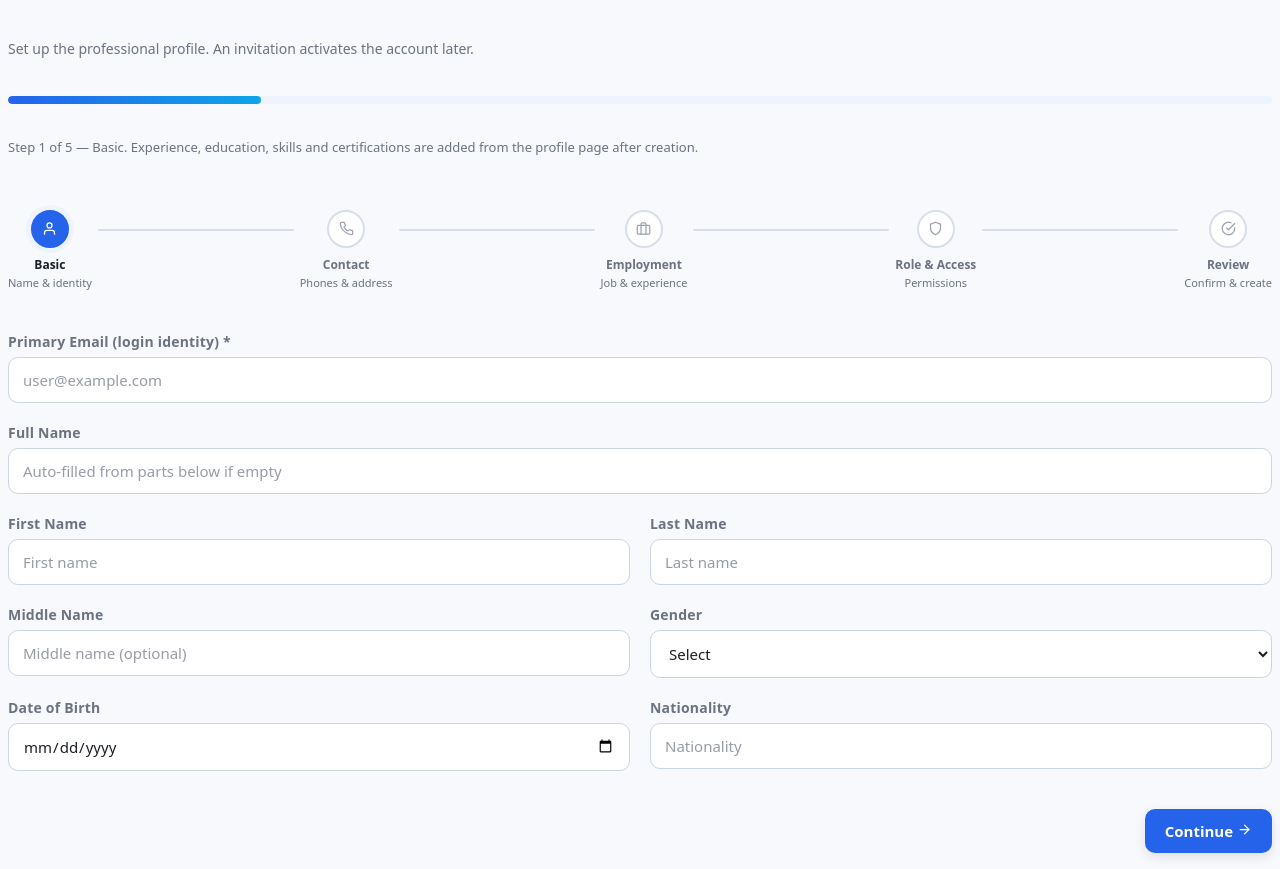
it: UserForm (create mode) › rejects negative experience
The image size is (1280, 869).
# jump to employment step by filling basics first
Type "a@b.co" into the field with placeholder "user@example.com".
click(640, 380); type("a@b.co")  # box [8,356,1272,402]
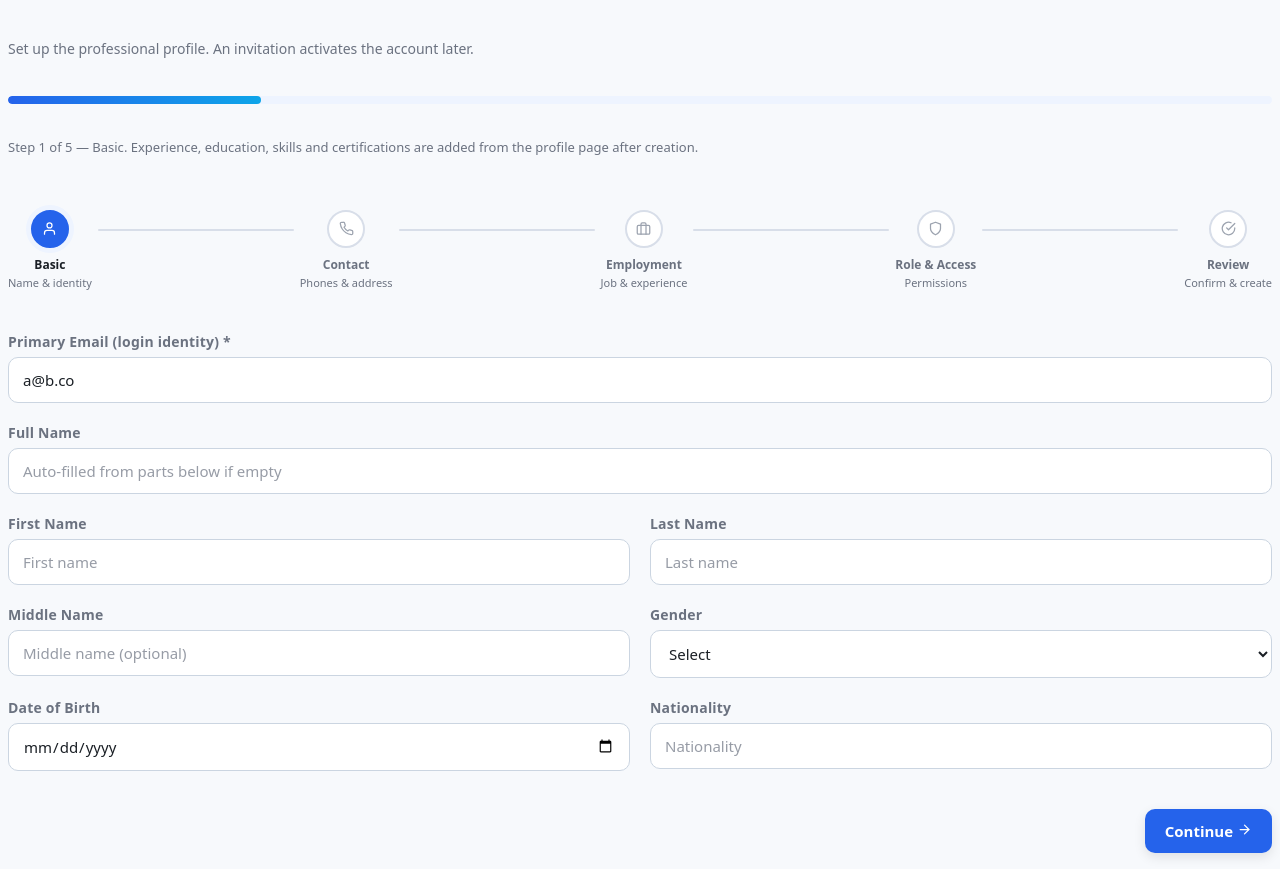
Type "A" into the field with placeholder "First Name".
click(319, 562); type("A")  # box [8,538,630,584]
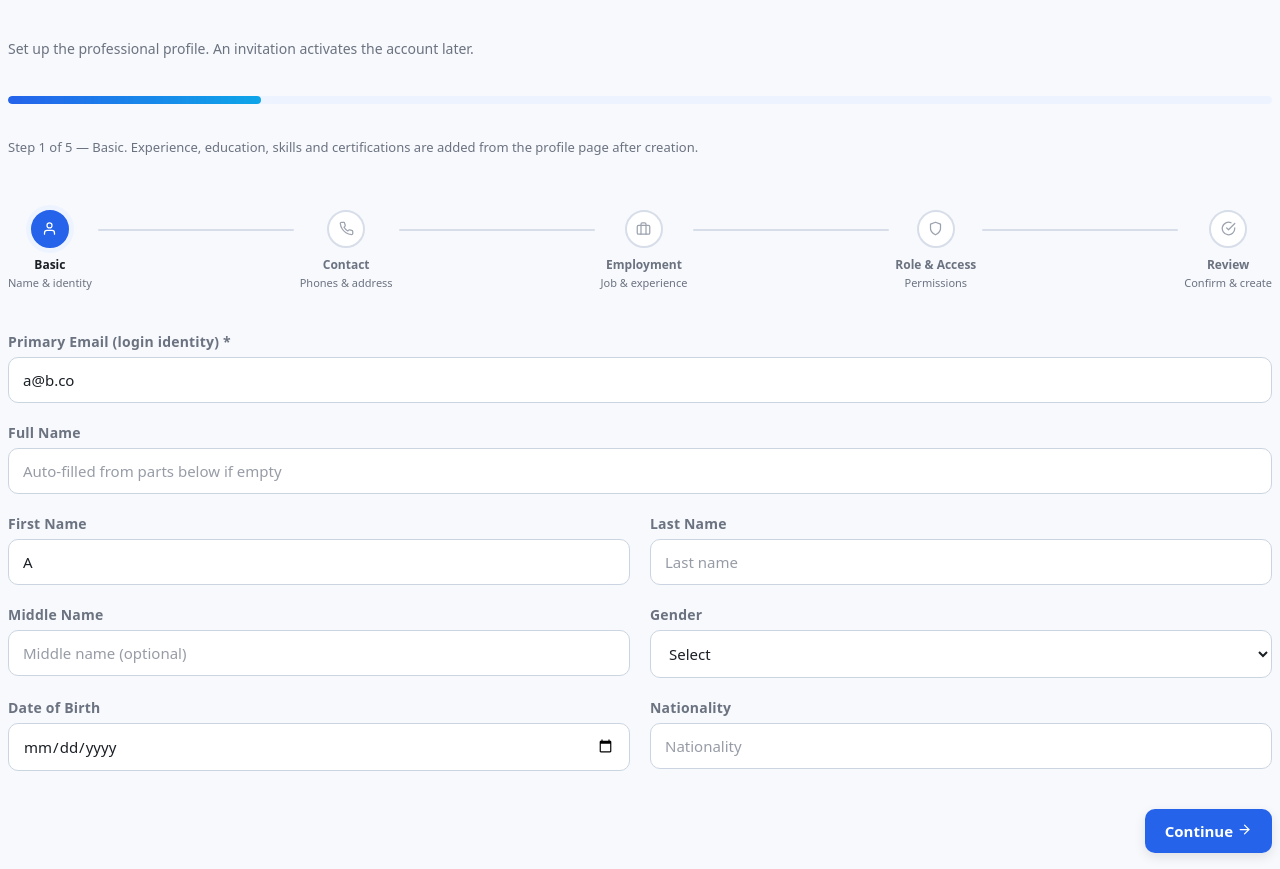
Click the button "Continue".
click(1208, 830)  # box [1145,808,1272,852]
(page scrolled)
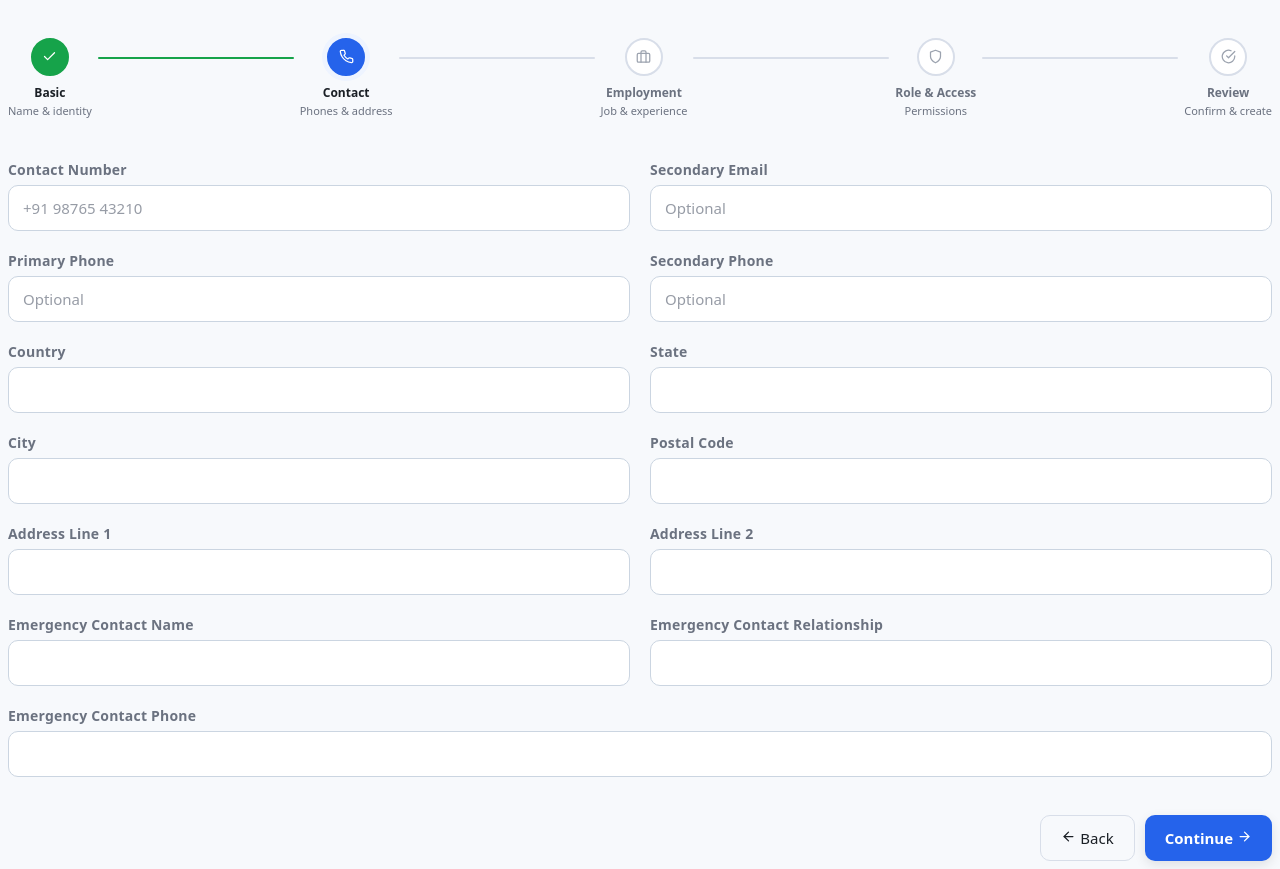
Click the button "Continue".
click(1208, 838)  # box [1145,814,1272,860]
(page scrolled)
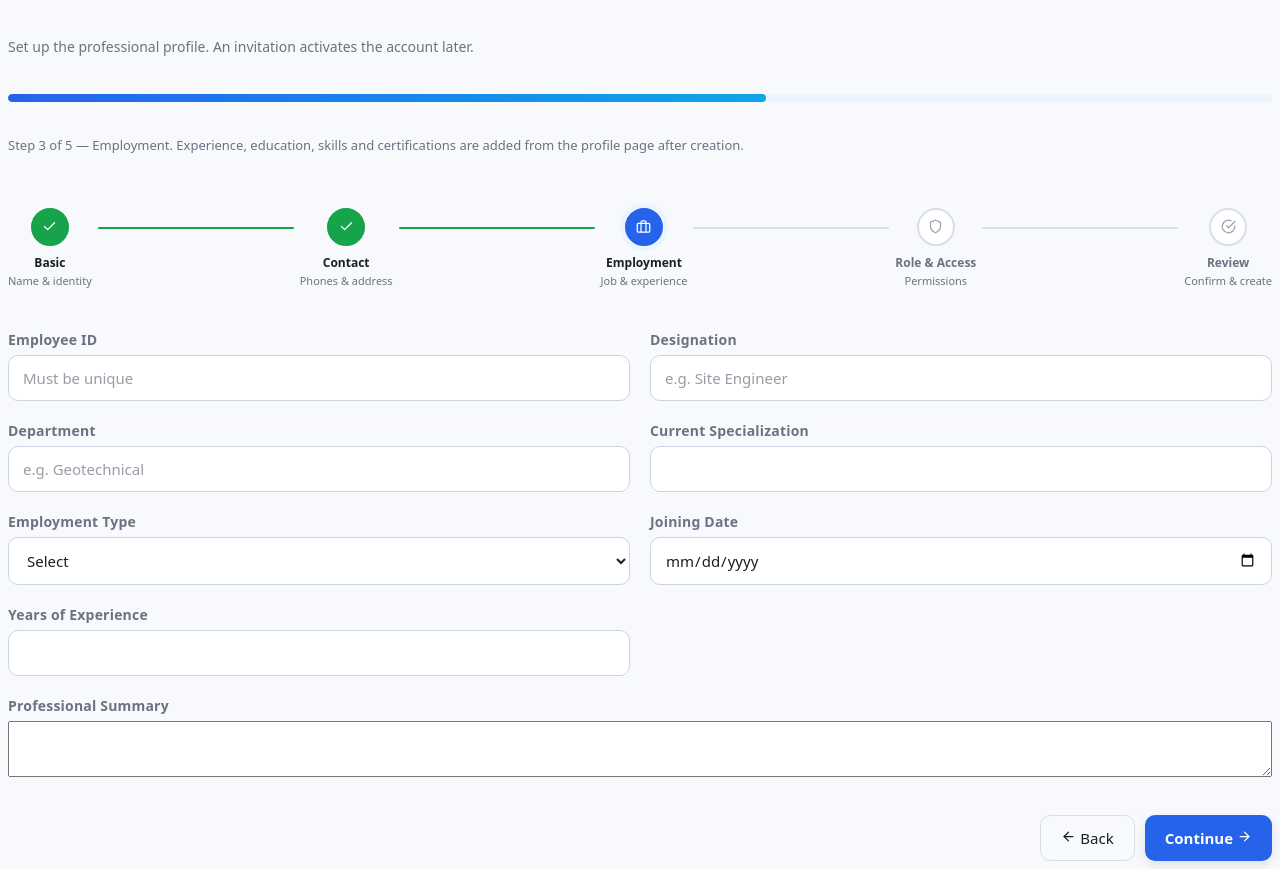
Type "-3" into the number field labelled "Years of Experience".
click(319, 652); type("-3")  # box [8,630,630,676]
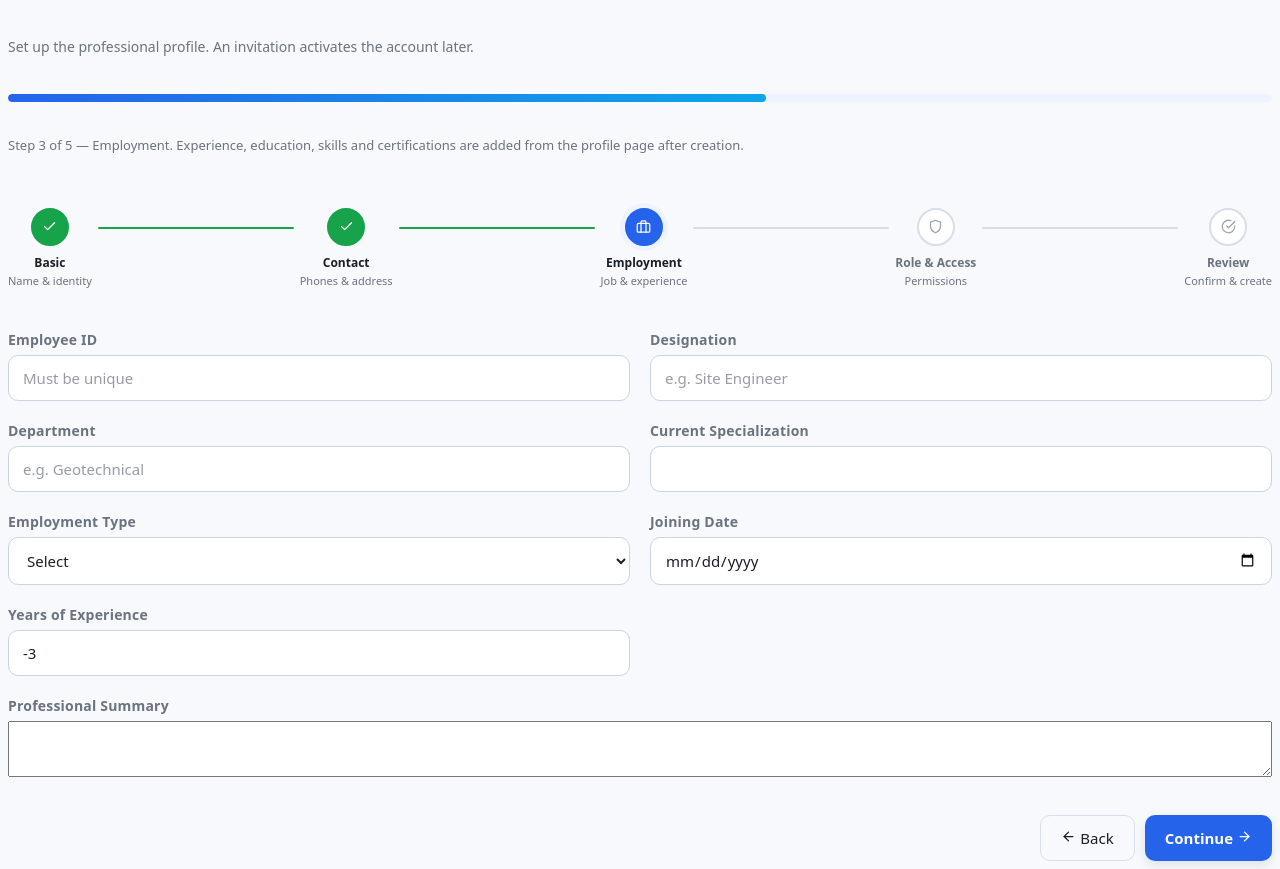
Click the button "Continue".
click(1208, 838)  # box [1145,814,1272,860]
(page scrolled)
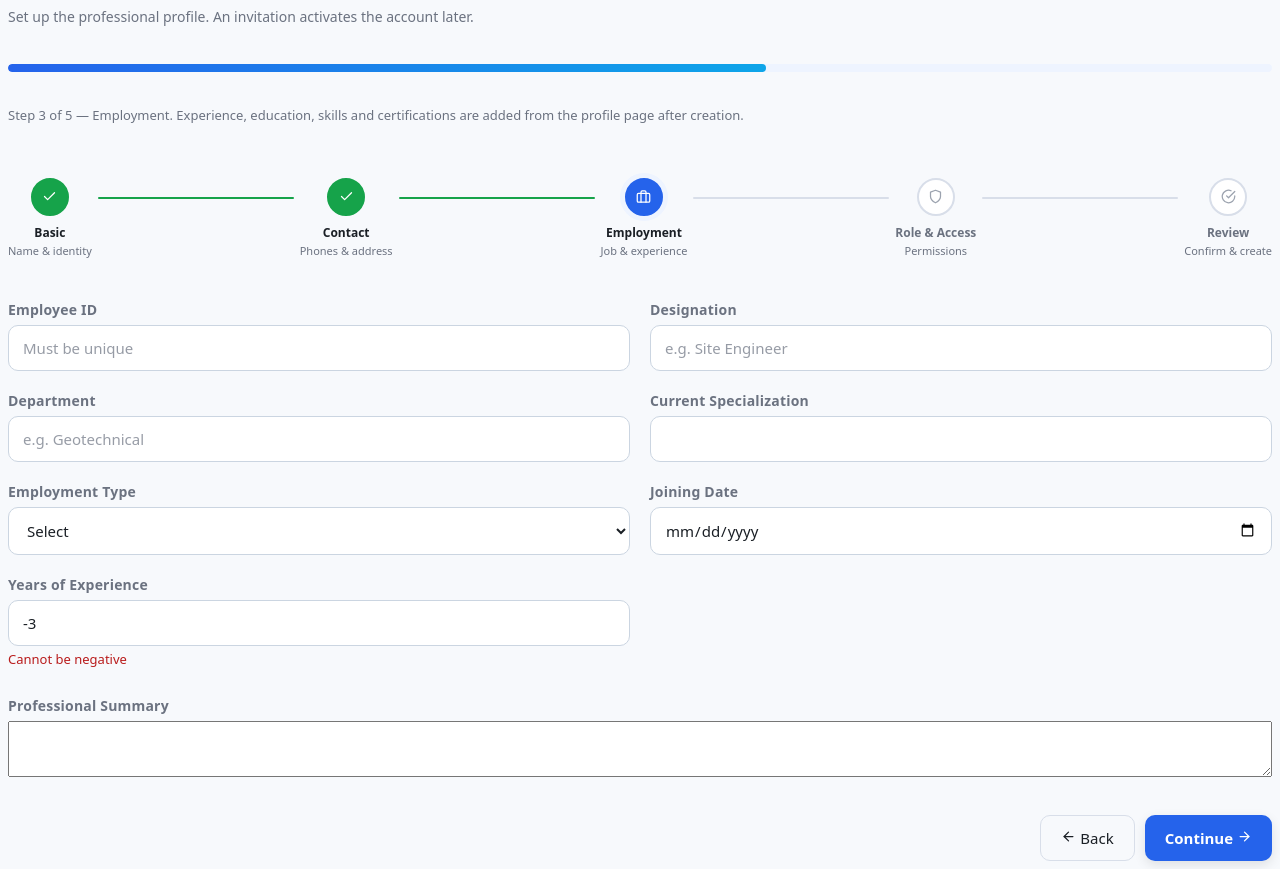
Now the text "Cannot be negative" is shown, box [8,650,127,668]
